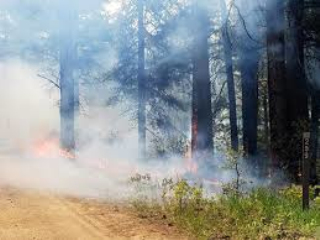fire: (178, 115, 207, 179), (29, 133, 73, 165)
smoke: (18, 51, 150, 141)
